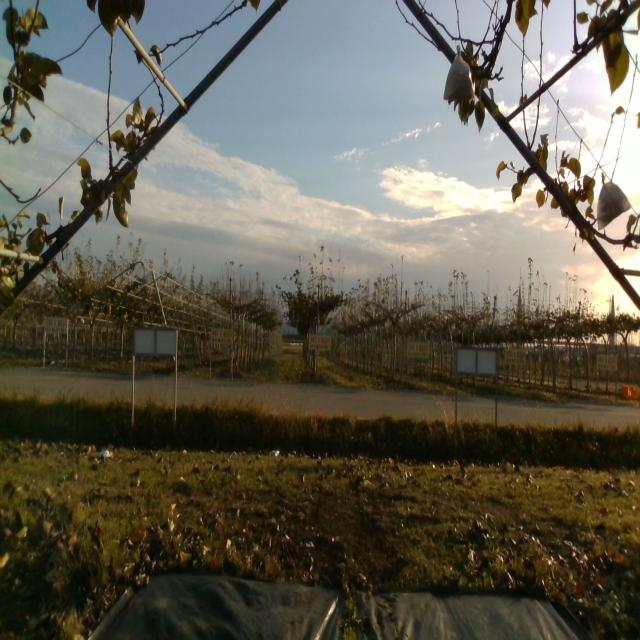pearbags: (596, 170, 632, 230), (442, 41, 475, 104)
